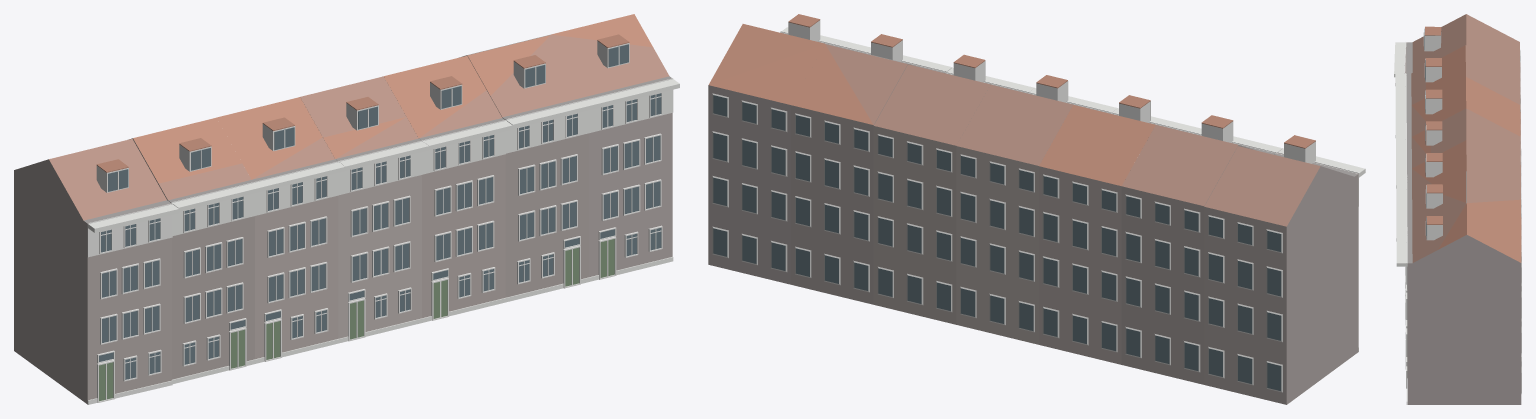
The model's file is chunk-face-gorontalo-25-47-r1.glb.
The picture shows the model from 3 angles, left to right: view 1: azimuth 30°, elevation 25°; view 2: azimuth 150°, elevation 25°; view 3: azimuth 270°, elevation 25°; orthographic projection. The views are drawn at different scales.
Parts seen in each view (by area): view 1: face-gorontalo-25-47-r1; view 2: face-gorontalo-25-47-r1; view 3: face-gorontalo-25-47-r1.
Boxes of the visible parts, x1=… form: face-gorontalo-25-47-r1: x1=14, y1=14, x2=679, y2=404; face-gorontalo-25-47-r1: x1=708, y1=14, x2=1365, y2=404; face-gorontalo-25-47-r1: x1=1394, y1=14, x2=1521, y2=404.
Size of the model in its own units: 43.01 by 15.35 by 10.45.
